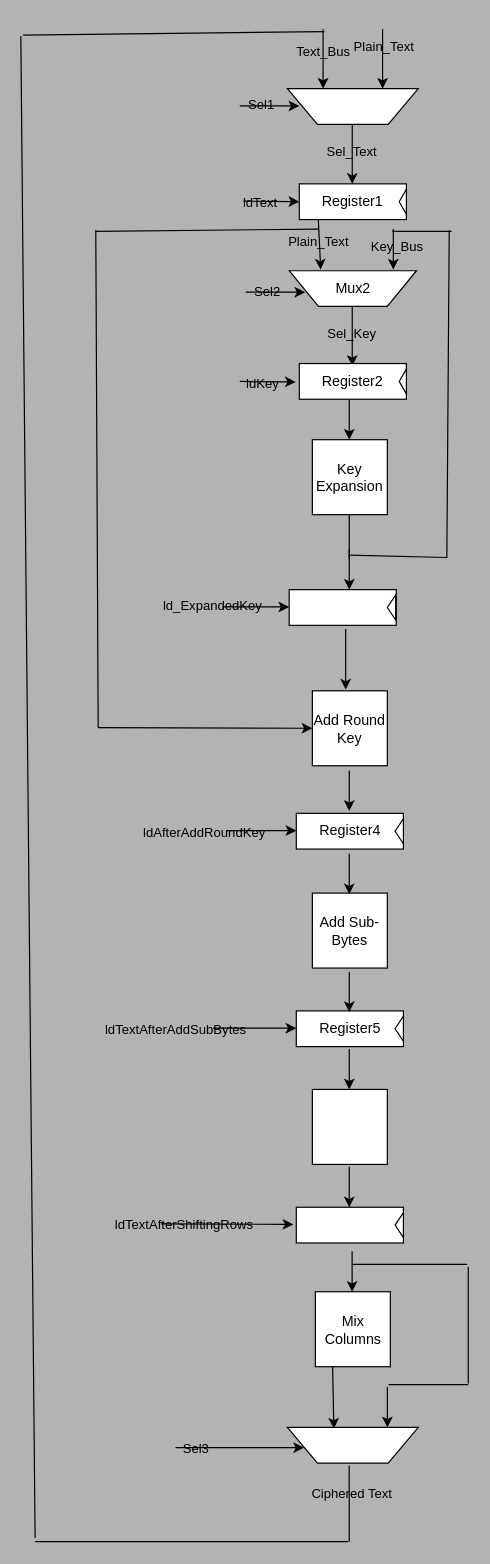
Some shapes in this 490 by 1564 pixel diagram are drawn without their labels. The shapes that lost their labels are listed below. From the top down, each one's centre as x and y in pixels, then its label:
At point (352, 105): "Mux1".
At point (342, 606): "Register3".
At point (349, 1126): "Shifting Rows".
At point (349, 1224): "Register6".
At point (352, 1444): "Mux3".
